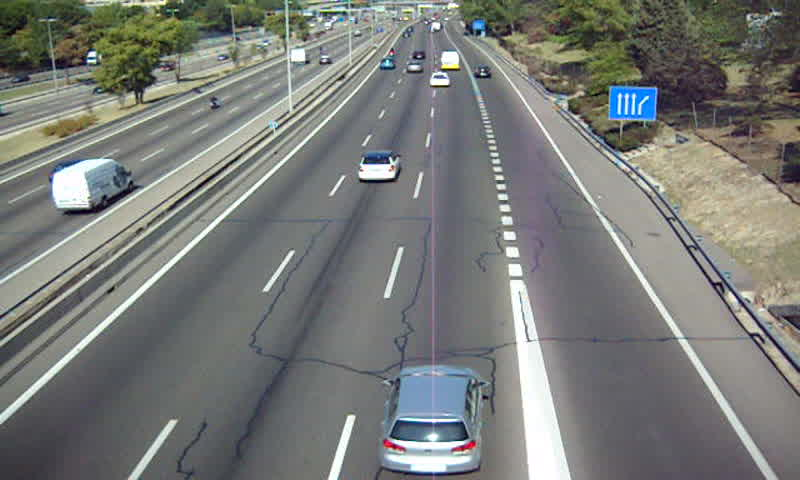car: (380, 366, 484, 473), (357, 151, 400, 182), (428, 73, 452, 87), (473, 66, 492, 80)
